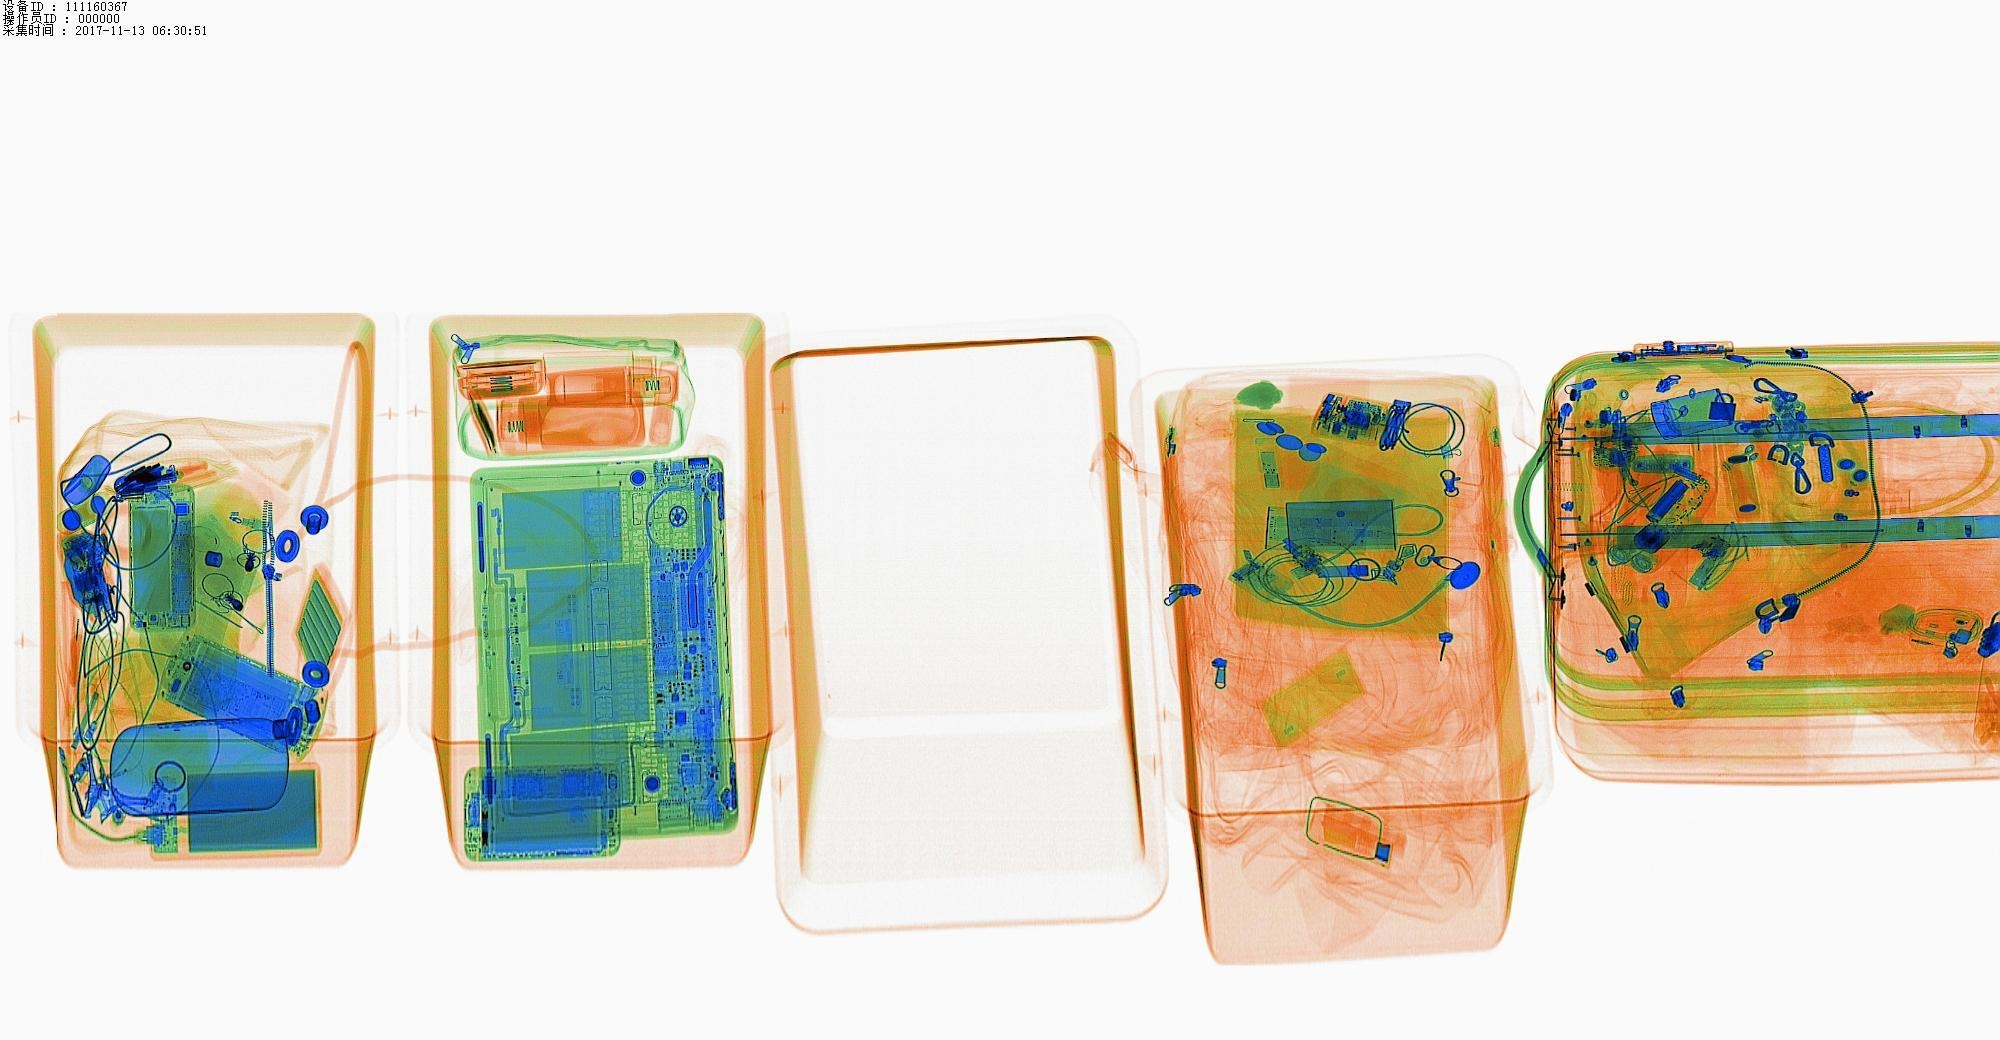coreless: (149, 769, 319, 848)
